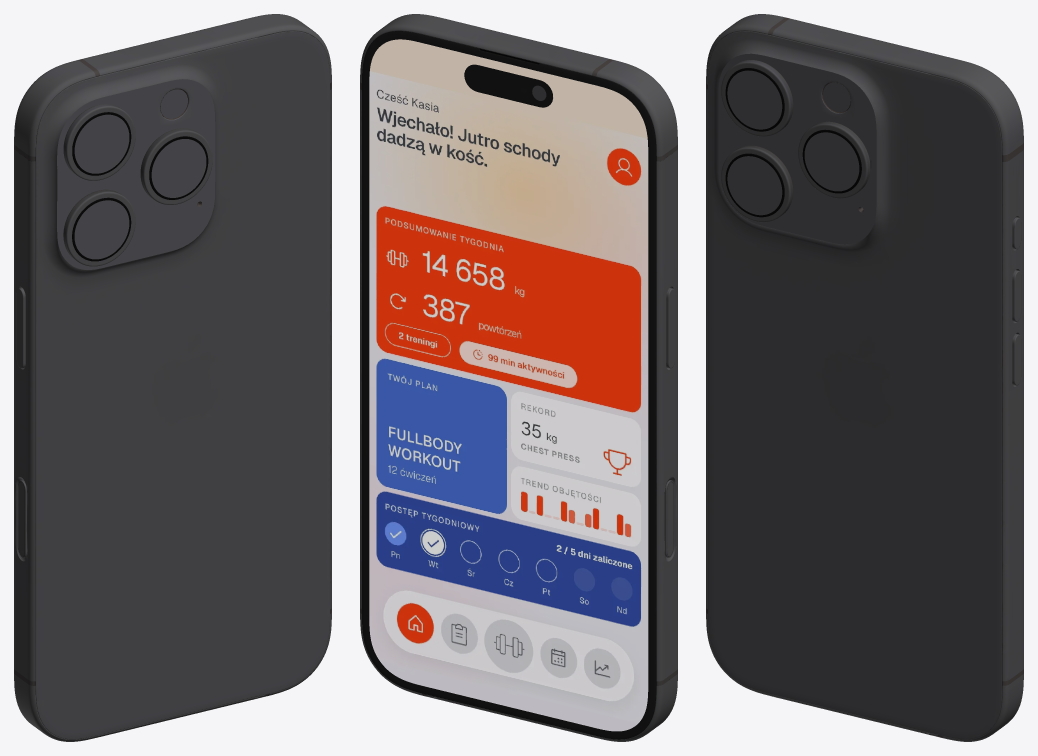
Rendered from iphone.glb.
3 renders of one model, left to right at view 1: azimuth 30°, elevation 25°; view 2: azimuth 150°, elevation 25°; view 3: azimuth 330°, elevation 25°, orthographic.
Parts seen in each view (by area): view 1: back, edge-a, back-camera, back-camera-lente-1-b, back-camera-lente-3-a, back-camera-lente-2-a, back-camera-lente-2-d, back-camera-lente-1-a, back-camera-lente-3-d, button-4, back-camera-flash-a; view 2: display, edge-a, edge-display, frontal-camera-1, button-4; view 3: back, edge-a, back-camera, back-camera-lente-2-a, back-camera-lente-1-b, back-camera-lente-3-a, back-camera-lente-3-d, back-camera-lente-1-a, back-camera-lente-2-d, back-camera-flash-a.
Part boxes in pixels (<box>): back: <box>35,31,329,739</box>; edge-a: <box>14,14,331,741</box>; back-camera: <box>57,79,215,269</box>; back-camera-lente-1-b: <box>74,114,129,173</box>; back-camera-lente-3-a: <box>74,200,129,259</box>; back-camera-lente-2-a: <box>151,139,206,197</box>; back-camera-lente-2-d: <box>140,128,212,204</box>; back-camera-lente-1-a: <box>63,104,135,180</box>; back-camera-lente-3-d: <box>63,189,135,266</box>; button-4: <box>16,288,25,368</box>; back-camera-flash-a: <box>160,89,187,118</box>; display: <box>369,39,648,731</box>; edge-a: <box>360,14,677,741</box>; edge-display: <box>362,31,656,739</box>; frontal-camera-1: <box>464,64,552,107</box>; button-4: <box>666,288,674,368</box>; back: <box>708,31,1002,739</box>; edge-a: <box>706,14,1023,741</box>; back-camera: <box>718,53,876,244</box>; back-camera-lente-2-a: <box>804,132,859,191</box>; back-camera-lente-1-b: <box>727,70,782,129</box>; back-camera-lente-3-a: <box>727,156,782,215</box>; back-camera-lente-3-d: <box>721,145,793,222</box>; back-camera-lente-1-a: <box>721,60,793,136</box>; back-camera-lente-2-d: <box>798,121,870,198</box>; back-camera-flash-a: <box>823,82,850,112</box>.
Size of the model in its own units: 0.0717 by 0.1492 by 0.0121.
Materials: 2 (2 with a texture image).
